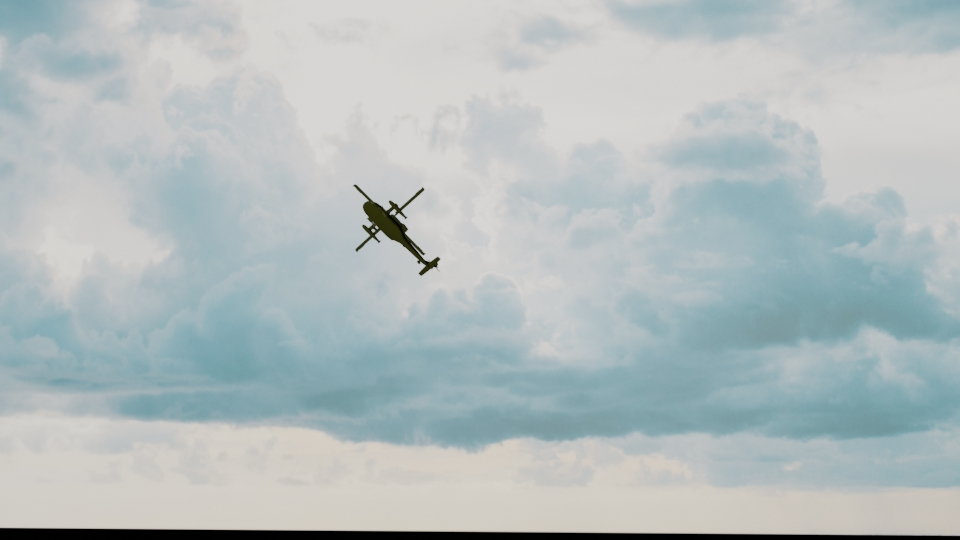heli: (351, 180, 438, 273)
